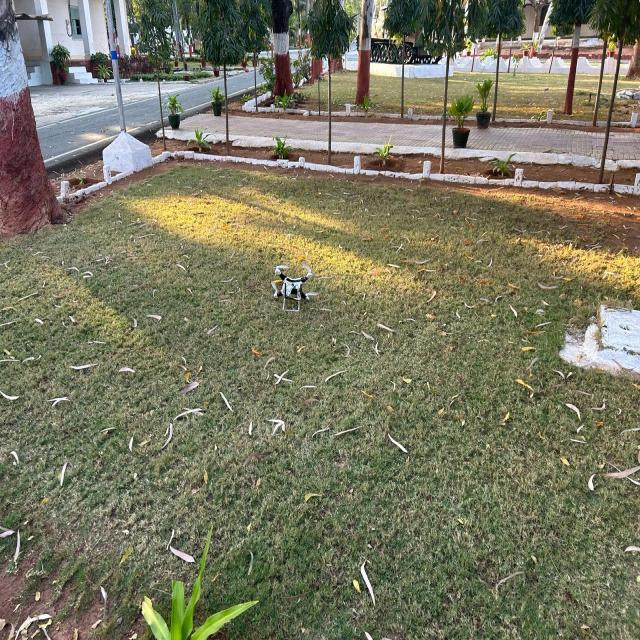drone: (266, 254, 323, 323)
